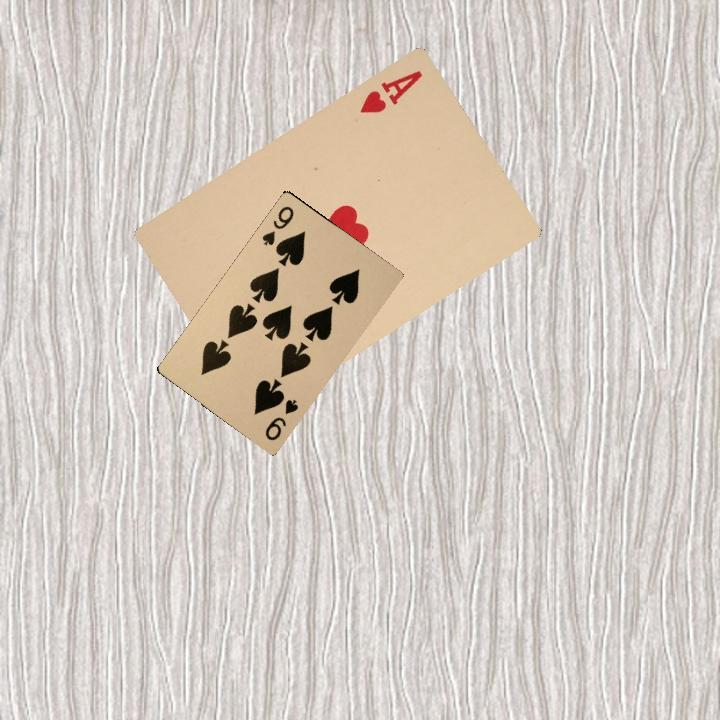9s: (261, 395, 301, 443), (258, 202, 296, 248)
Ah: (355, 66, 425, 116)
